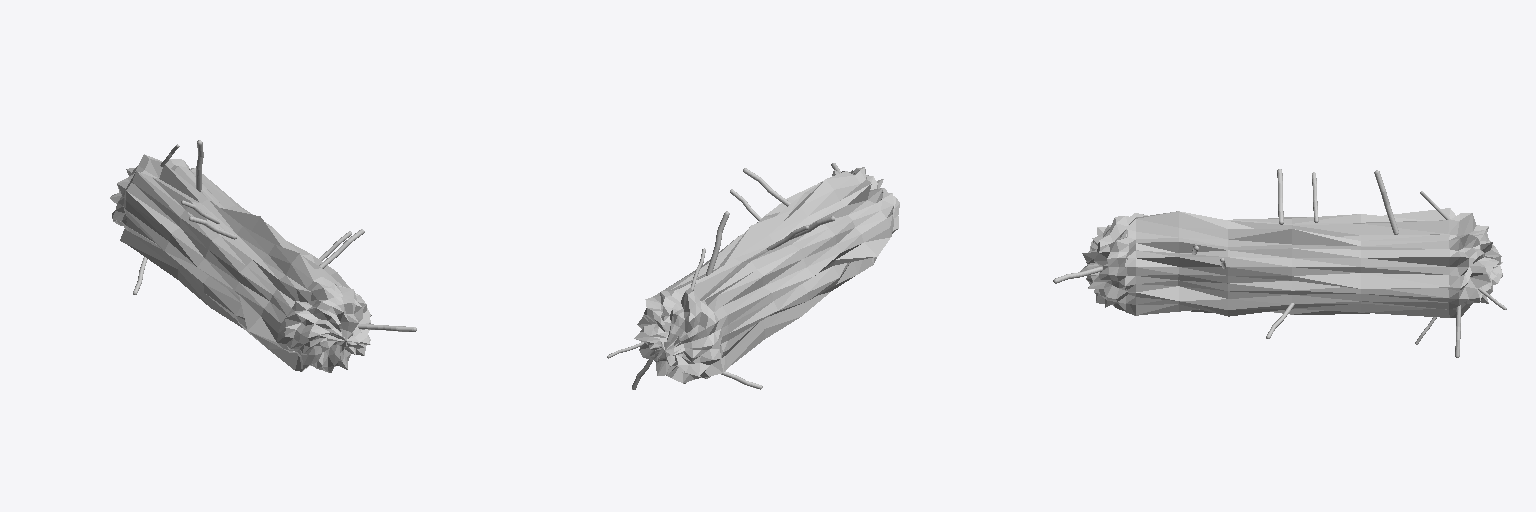
The model's file is yersinia.obj.
3 views of the same model, side by side, from view 1: azimuth 30°, elevation 25°; view 2: azimuth 150°, elevation 25°; view 3: azimuth 270°, elevation 25° (orthographic).
Visible parts, largest first — view 1: Sphere, Sphere.001; view 2: Sphere, Sphere.001; view 3: Sphere, Sphere.001.
Boxes of the visible parts, x1,y1,x2,y2 form: Sphere: [110, 154, 371, 372]; Sphere.001: [133, 140, 416, 331]; Sphere: [634, 167, 899, 382]; Sphere.001: [607, 163, 840, 389]; Sphere: [1080, 208, 1502, 317]; Sphere.001: [1053, 169, 1506, 357].
Bounding box in the file's own units: 3.5 × 4.09 × 10.27.